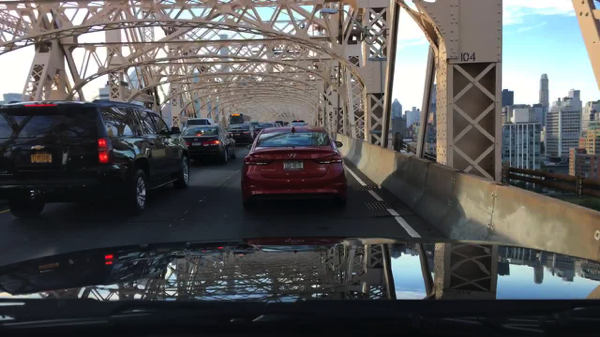bus: (228, 114, 251, 125)
car: (1, 100, 190, 218), (242, 125, 345, 218), (179, 125, 237, 164), (226, 123, 256, 147), (253, 122, 273, 143), (183, 118, 212, 132), (291, 119, 306, 126), (273, 121, 287, 126)
